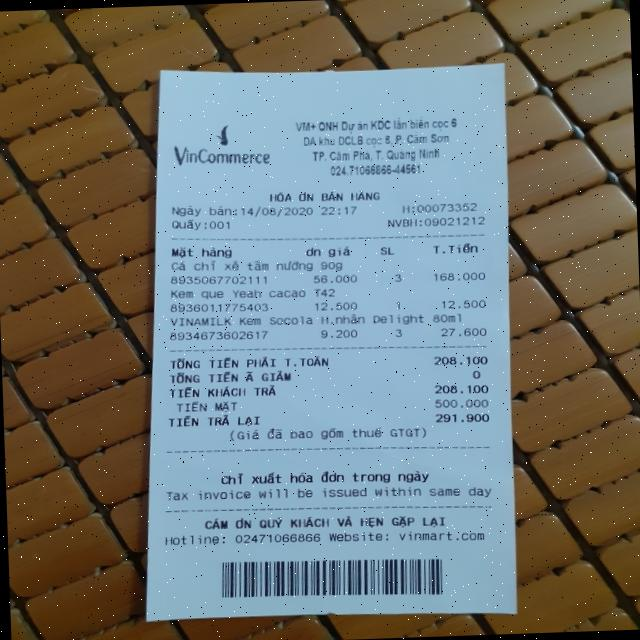Date: (241, 201, 316, 218)
Store_Name: (170, 142, 273, 170)
amount_number: (433, 352, 492, 367)
label_total: (170, 349, 336, 374)
